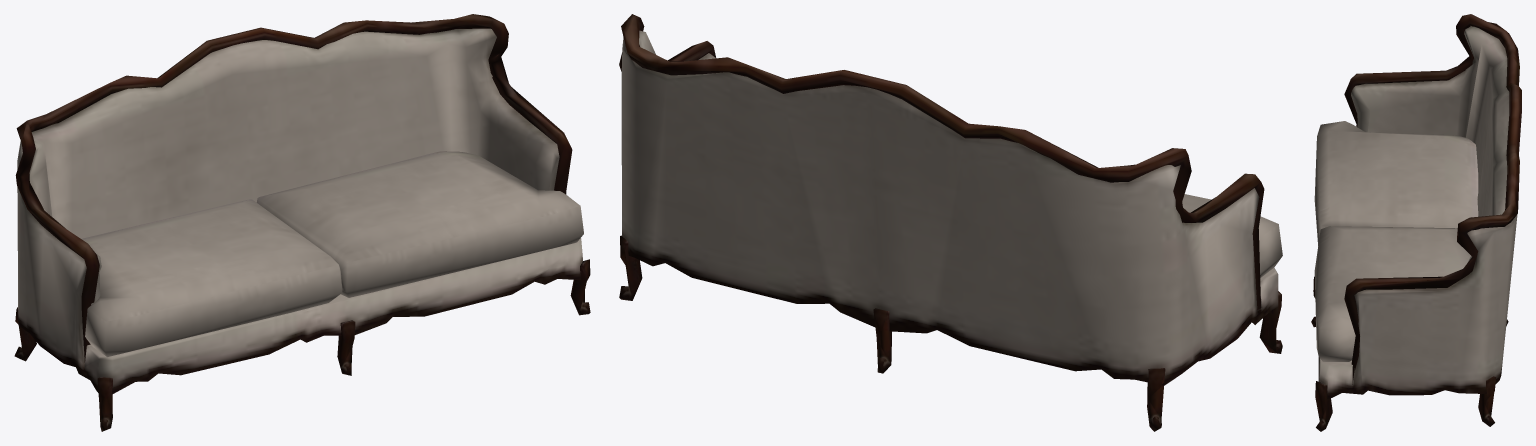
File: sofa.glb
The picture shows the model from 3 angles, left to right: view 1: azimuth 30°, elevation 25°; view 2: azimuth 150°, elevation 25°; view 3: azimuth 270°, elevation 25°; orthographic projection. The views are drawn at different scales.
Visible parts, largest first — view 1: Sofa_01; view 2: Sofa_01; view 3: Sofa_01.
Boxes of the visible parts, x1,y1,x2,y2 form: Sofa_01: (14, 14, 590, 431); Sofa_01: (619, 14, 1282, 431); Sofa_01: (1311, 14, 1521, 431).
Size of the model in its own units: 1.57 by 0.7878 by 0.657.
1 material, 1 textured.
